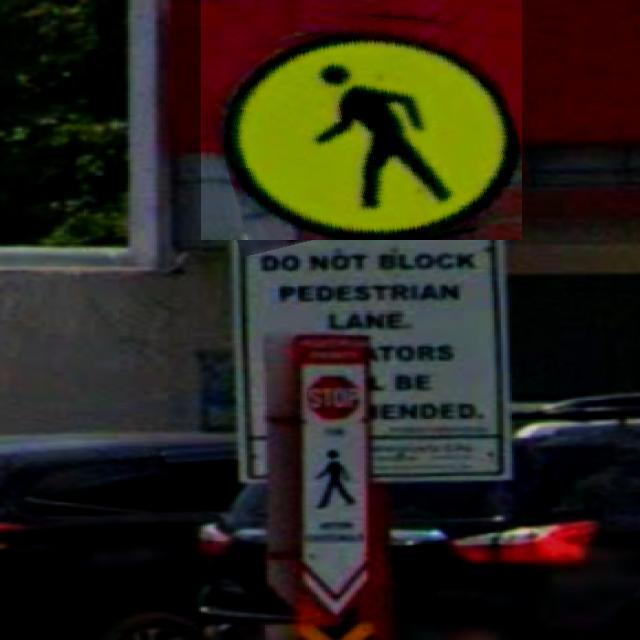pedestrian crossing: (201, 0, 522, 240)
